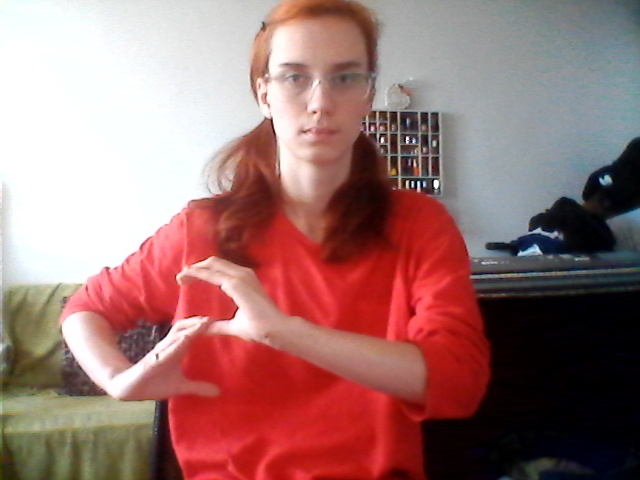s: (120, 249, 283, 415)
